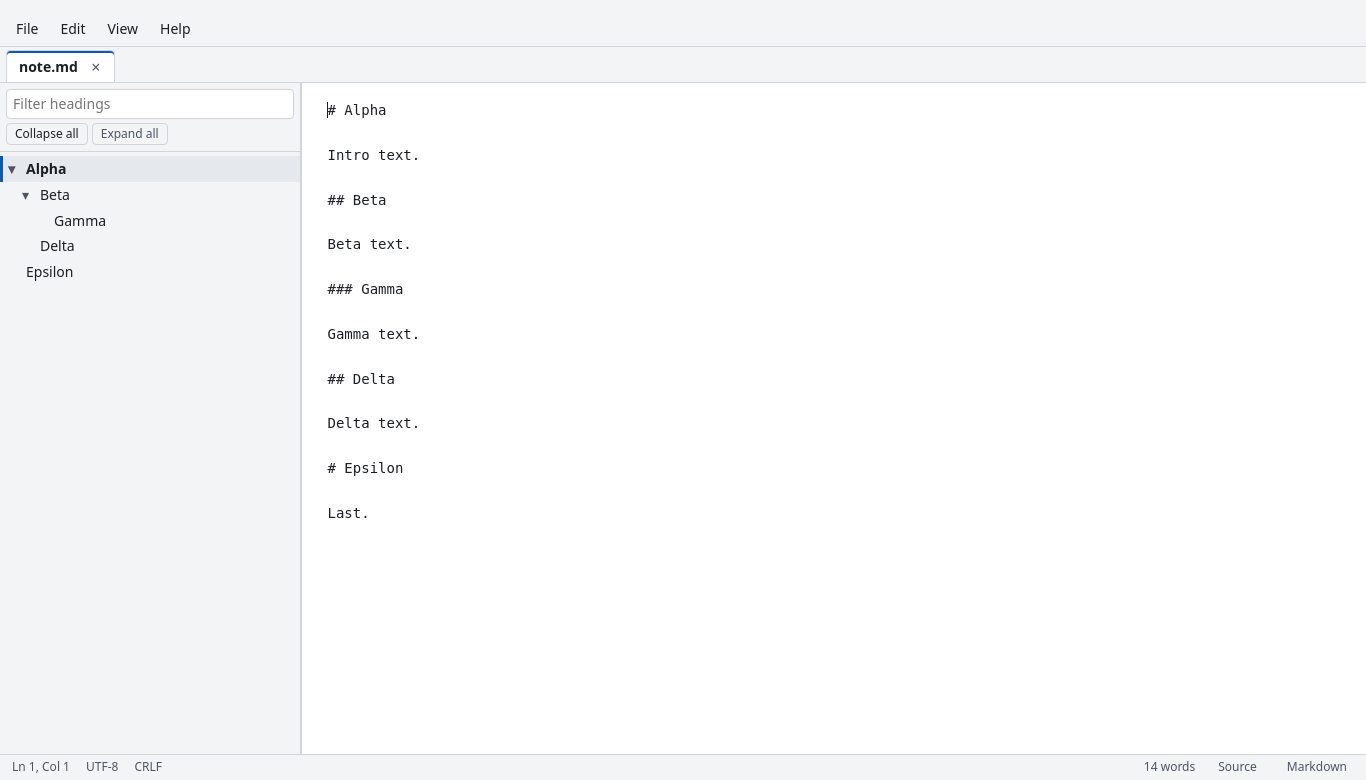
it: the outline pane › collapses and expands every level with the buttons
Expected: the element named "Document outline" is shown, [0, 156, 300, 281]
Click the button "Collapse all". click: [47, 134]
box: [6, 123, 88, 145]
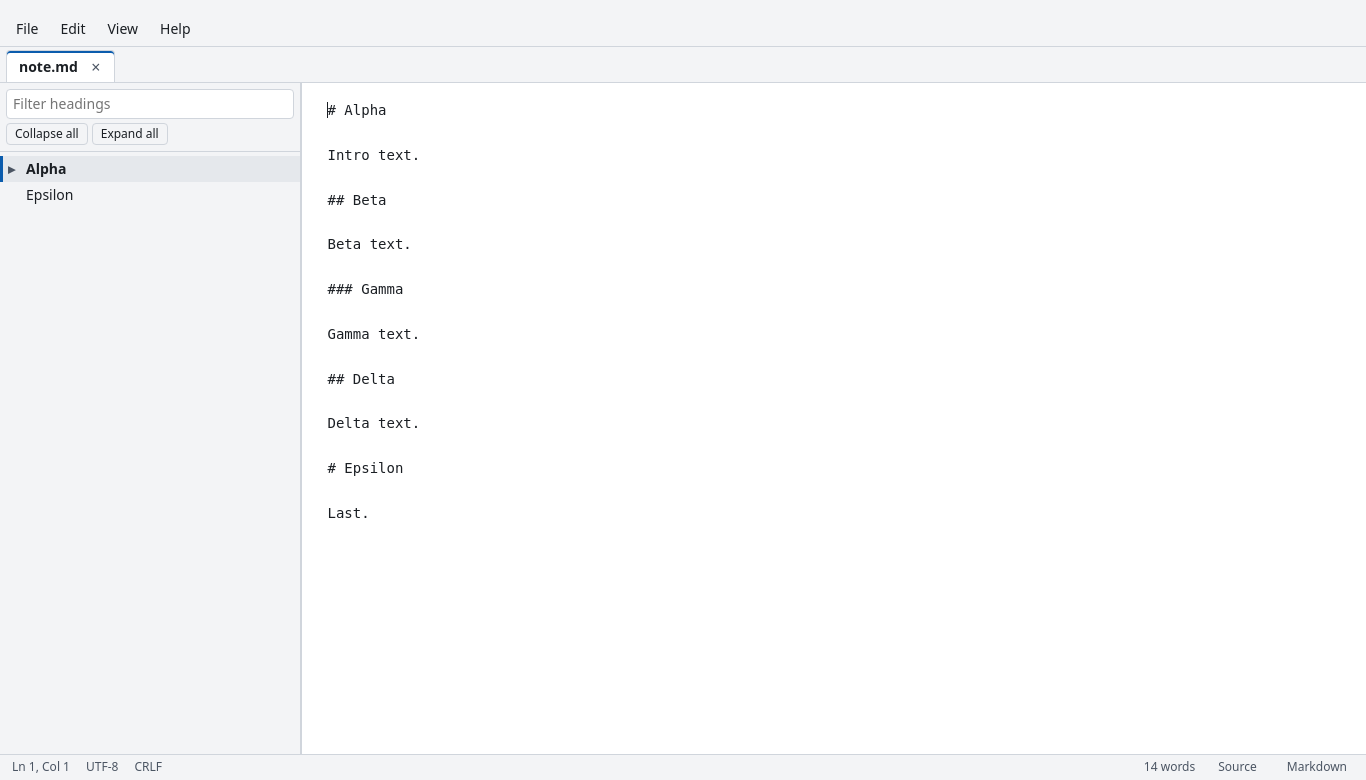
Click the button "Expand all". click: [130, 134]
box: [92, 123, 168, 145]
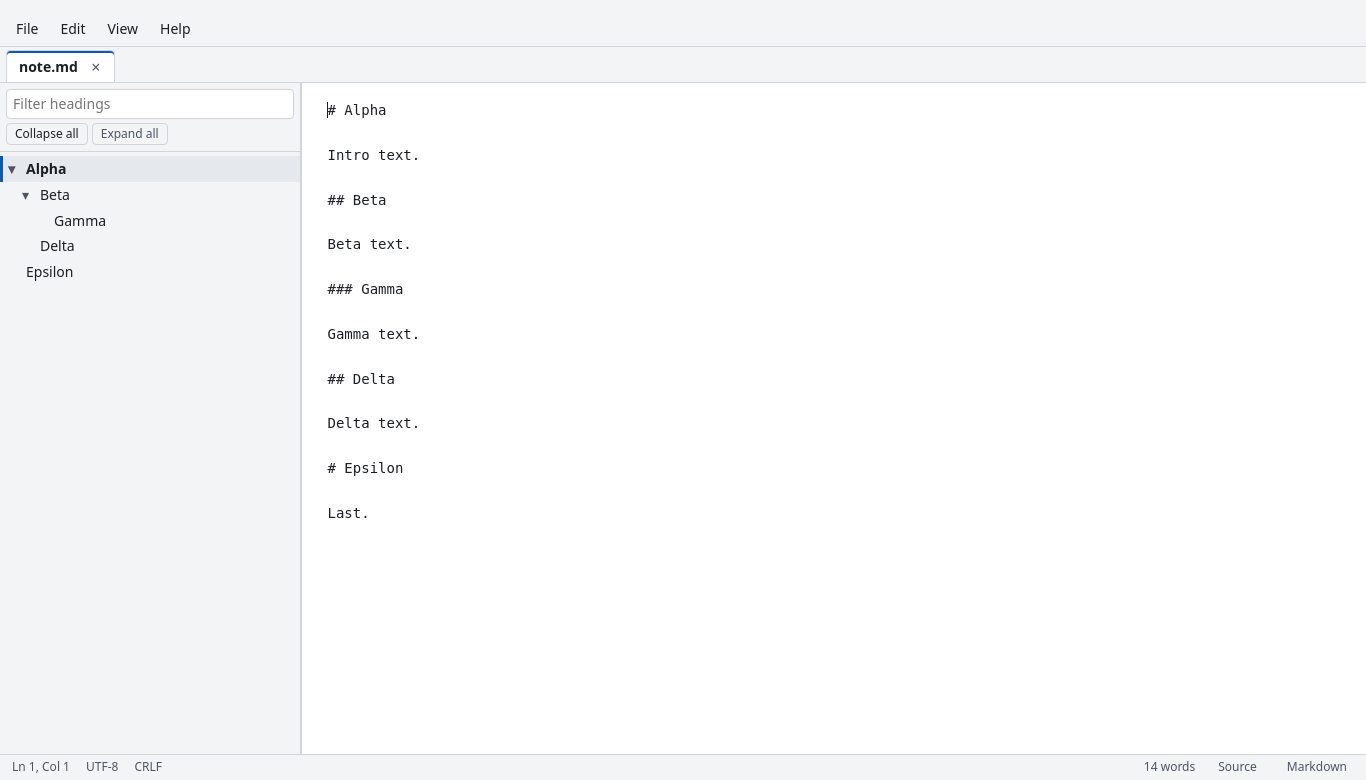
Now the number of list items is 5, box [0, 156, 300, 182]; [22, 185, 70, 204]; [54, 211, 106, 230]; [40, 236, 75, 255]; [26, 262, 74, 281]
